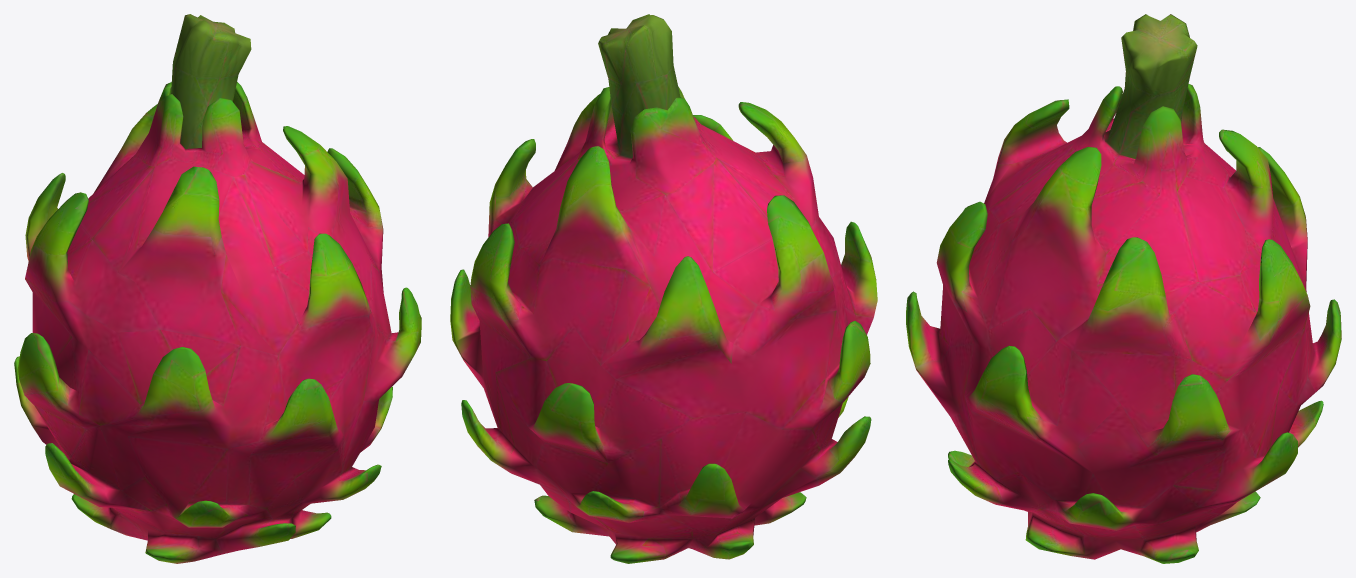
Rendered from b04_dragonfruit.glb.
The picture shows the model from 3 angles, left to right: view 1: azimuth 30°, elevation 25°; view 2: azimuth 150°, elevation 25°; view 3: azimuth 270°, elevation 25°; orthographic projection. The views are drawn at different scales.
Parts seen in each view (by area): view 1: geometry_0; view 2: geometry_0; view 3: geometry_0.
Part boxes in pixels (x1,y1,x2,y2): geometry_0: (14, 14, 421, 563); geometry_0: (450, 14, 877, 563); geometry_0: (906, 14, 1341, 563).
Bounding box in the file's own units: 0.7188 × 0.9551 × 0.7241.
1 material, 1 textured.
